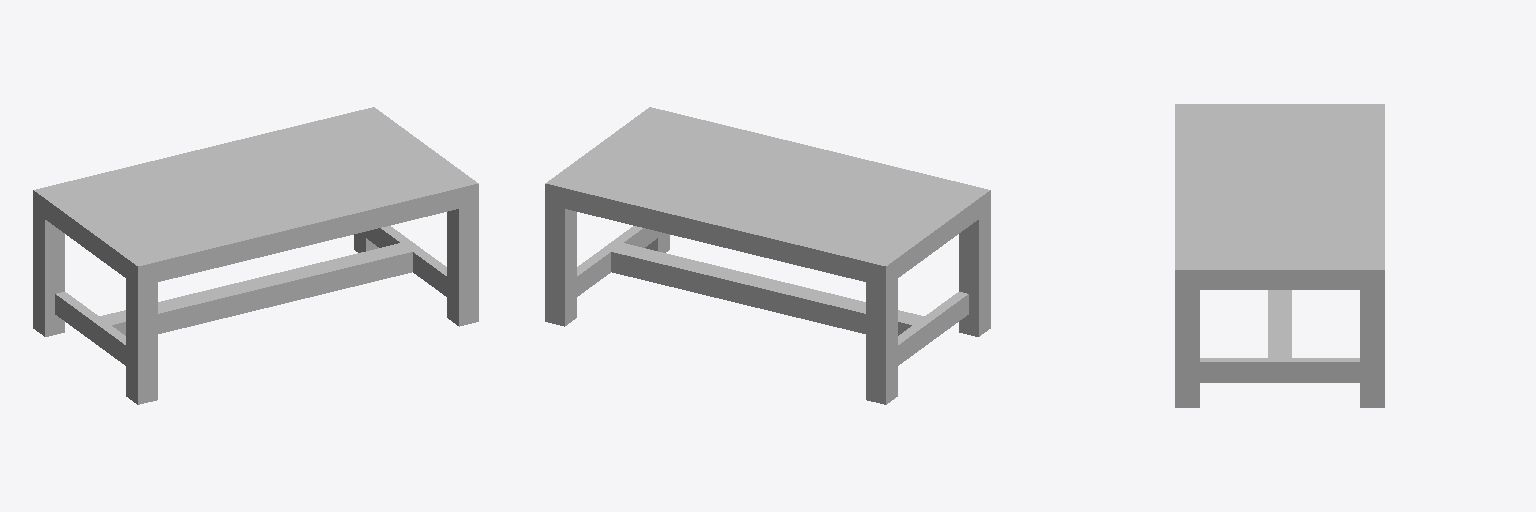
Rendered from table.obj.
3 renders of one model, left to right at view 1: azimuth 30°, elevation 25°; view 2: azimuth 150°, elevation 25°; view 3: azimuth 270°, elevation 25°, orthographic.
Visible parts, largest first — view 1: table; view 2: table; view 3: table.
Boxes of the visible parts, x1,y1,x2,y2 form: table: [33, 107, 478, 404]; table: [545, 107, 990, 404]; table: [1175, 104, 1384, 407].
Size of the model in its own units: 0.8415 by 0.3267 by 0.4474.